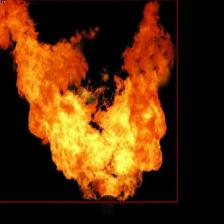fire: (0, 0, 177, 202)
